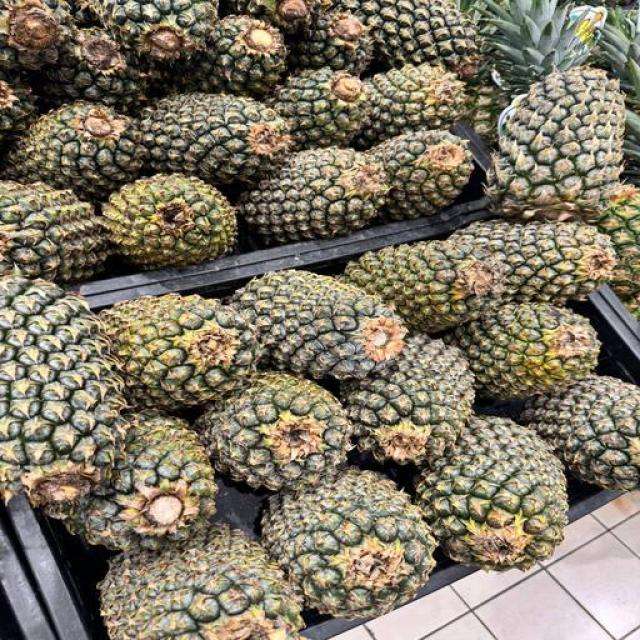organic: (478, 0, 624, 221), (344, 220, 616, 332), (0, 277, 124, 504), (263, 468, 434, 617), (48, 412, 217, 551), (417, 417, 568, 571), (99, 527, 302, 639), (488, 68, 624, 221), (232, 270, 406, 379), (100, 294, 261, 411), (195, 373, 353, 489), (340, 334, 474, 464), (344, 240, 506, 332), (447, 303, 599, 398), (239, 148, 388, 242), (140, 93, 291, 183), (520, 377, 639, 491), (452, 220, 616, 302), (7, 102, 144, 199), (103, 174, 237, 268), (477, 0, 594, 96), (0, 182, 109, 282), (338, 0, 479, 76), (164, 15, 287, 97), (368, 129, 473, 219), (357, 63, 467, 148), (42, 28, 147, 111), (269, 68, 371, 148), (89, 0, 217, 63), (598, 7, 639, 178), (207, 15, 287, 94), (289, 10, 373, 74), (0, 0, 72, 71), (597, 185, 639, 296), (597, 9, 639, 112), (465, 60, 509, 146), (227, 0, 326, 33), (0, 70, 37, 141), (67, 0, 98, 27), (622, 295, 639, 321)
